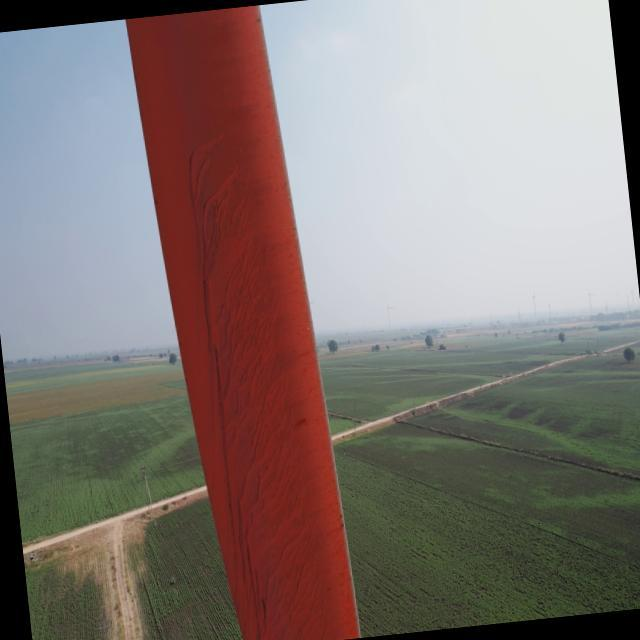Dirt: (191, 124, 343, 640)
